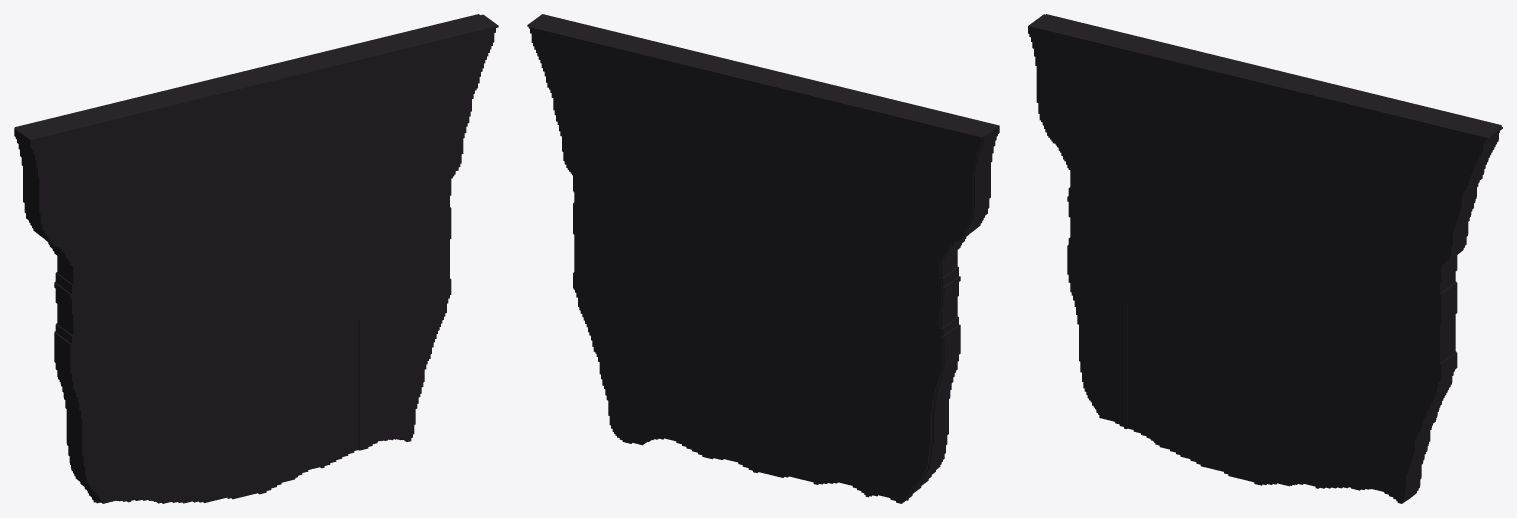
The model's file is Potolok.glb.
3 views of the same model, side by side, from view 1: azimuth 30°, elevation 25°; view 2: azimuth 150°, elevation 25°; view 3: azimuth 330°, elevation 25° (orthographic). The views are drawn at different scales.
Visible parts, largest first — view 1: Untitled.026, Untitled.030, Untitled.007, Untitled.027, Untitled.025, Untitled.006, Untitled.029, Untitled.005, Untitled.028; view 2: Untitled.026, Untitled.030, Untitled.007, Untitled.027, Untitled.025, Untitled.006, Untitled.029, Untitled.005, Untitled.028; view 3: Untitled.026, Untitled.030, Untitled.007, Untitled.027, Untitled.025, Untitled.006, Untitled.029, Untitled.005, Untitled.028.
Part boxes in pixels (x1,y1,x2,y2): Untitled.026: [114, 47, 359, 257]; Untitled.030: [131, 319, 358, 503]; Untitled.007: [131, 202, 359, 374]; Untitled.027: [342, 14, 498, 202]; Untitled.025: [14, 103, 131, 272]; Untitled.006: [359, 180, 451, 318]; Untitled.029: [358, 297, 449, 450]; Untitled.005: [54, 258, 131, 388]; Untitled.028: [58, 374, 131, 503]; Untitled.026: [661, 47, 900, 252]; Untitled.030: [661, 312, 884, 497]; Untitled.007: [661, 199, 884, 366]; Untitled.027: [527, 14, 677, 198]; Untitled.025: [884, 101, 999, 266]; Untitled.006: [573, 176, 661, 311]; Untitled.029: [575, 291, 661, 445]; Untitled.005: [884, 253, 960, 379]; Untitled.028: [884, 366, 957, 503]; Untitled.026: [1127, 38, 1367, 244]; Untitled.030: [1127, 304, 1350, 488]; Untitled.007: [1127, 190, 1350, 358]; Untitled.027: [1351, 92, 1502, 266]; Untitled.025: [1028, 14, 1143, 189]; Untitled.006: [1351, 245, 1457, 380]; Untitled.029: [1351, 359, 1454, 503]; Untitled.005: [1067, 176, 1126, 304]; Untitled.028: [1070, 290, 1127, 428].
Bounding box in the file's own units: 31.6 × 26.5 × 2.
Materials: 9 (9 with a texture image).
